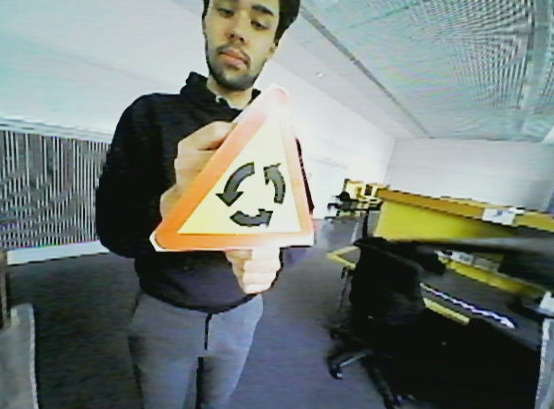roundabout_warning: (146, 82, 323, 253)
